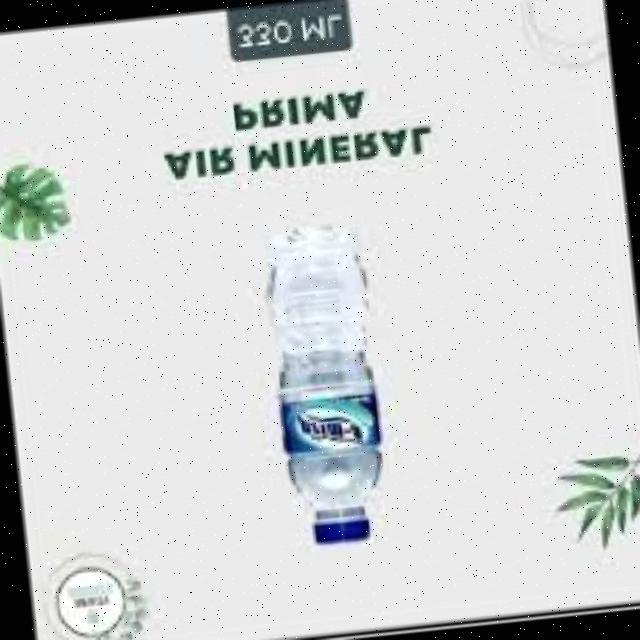bottle: (245, 219, 419, 560)
cap: (306, 508, 368, 548)
label: (275, 386, 391, 456)
